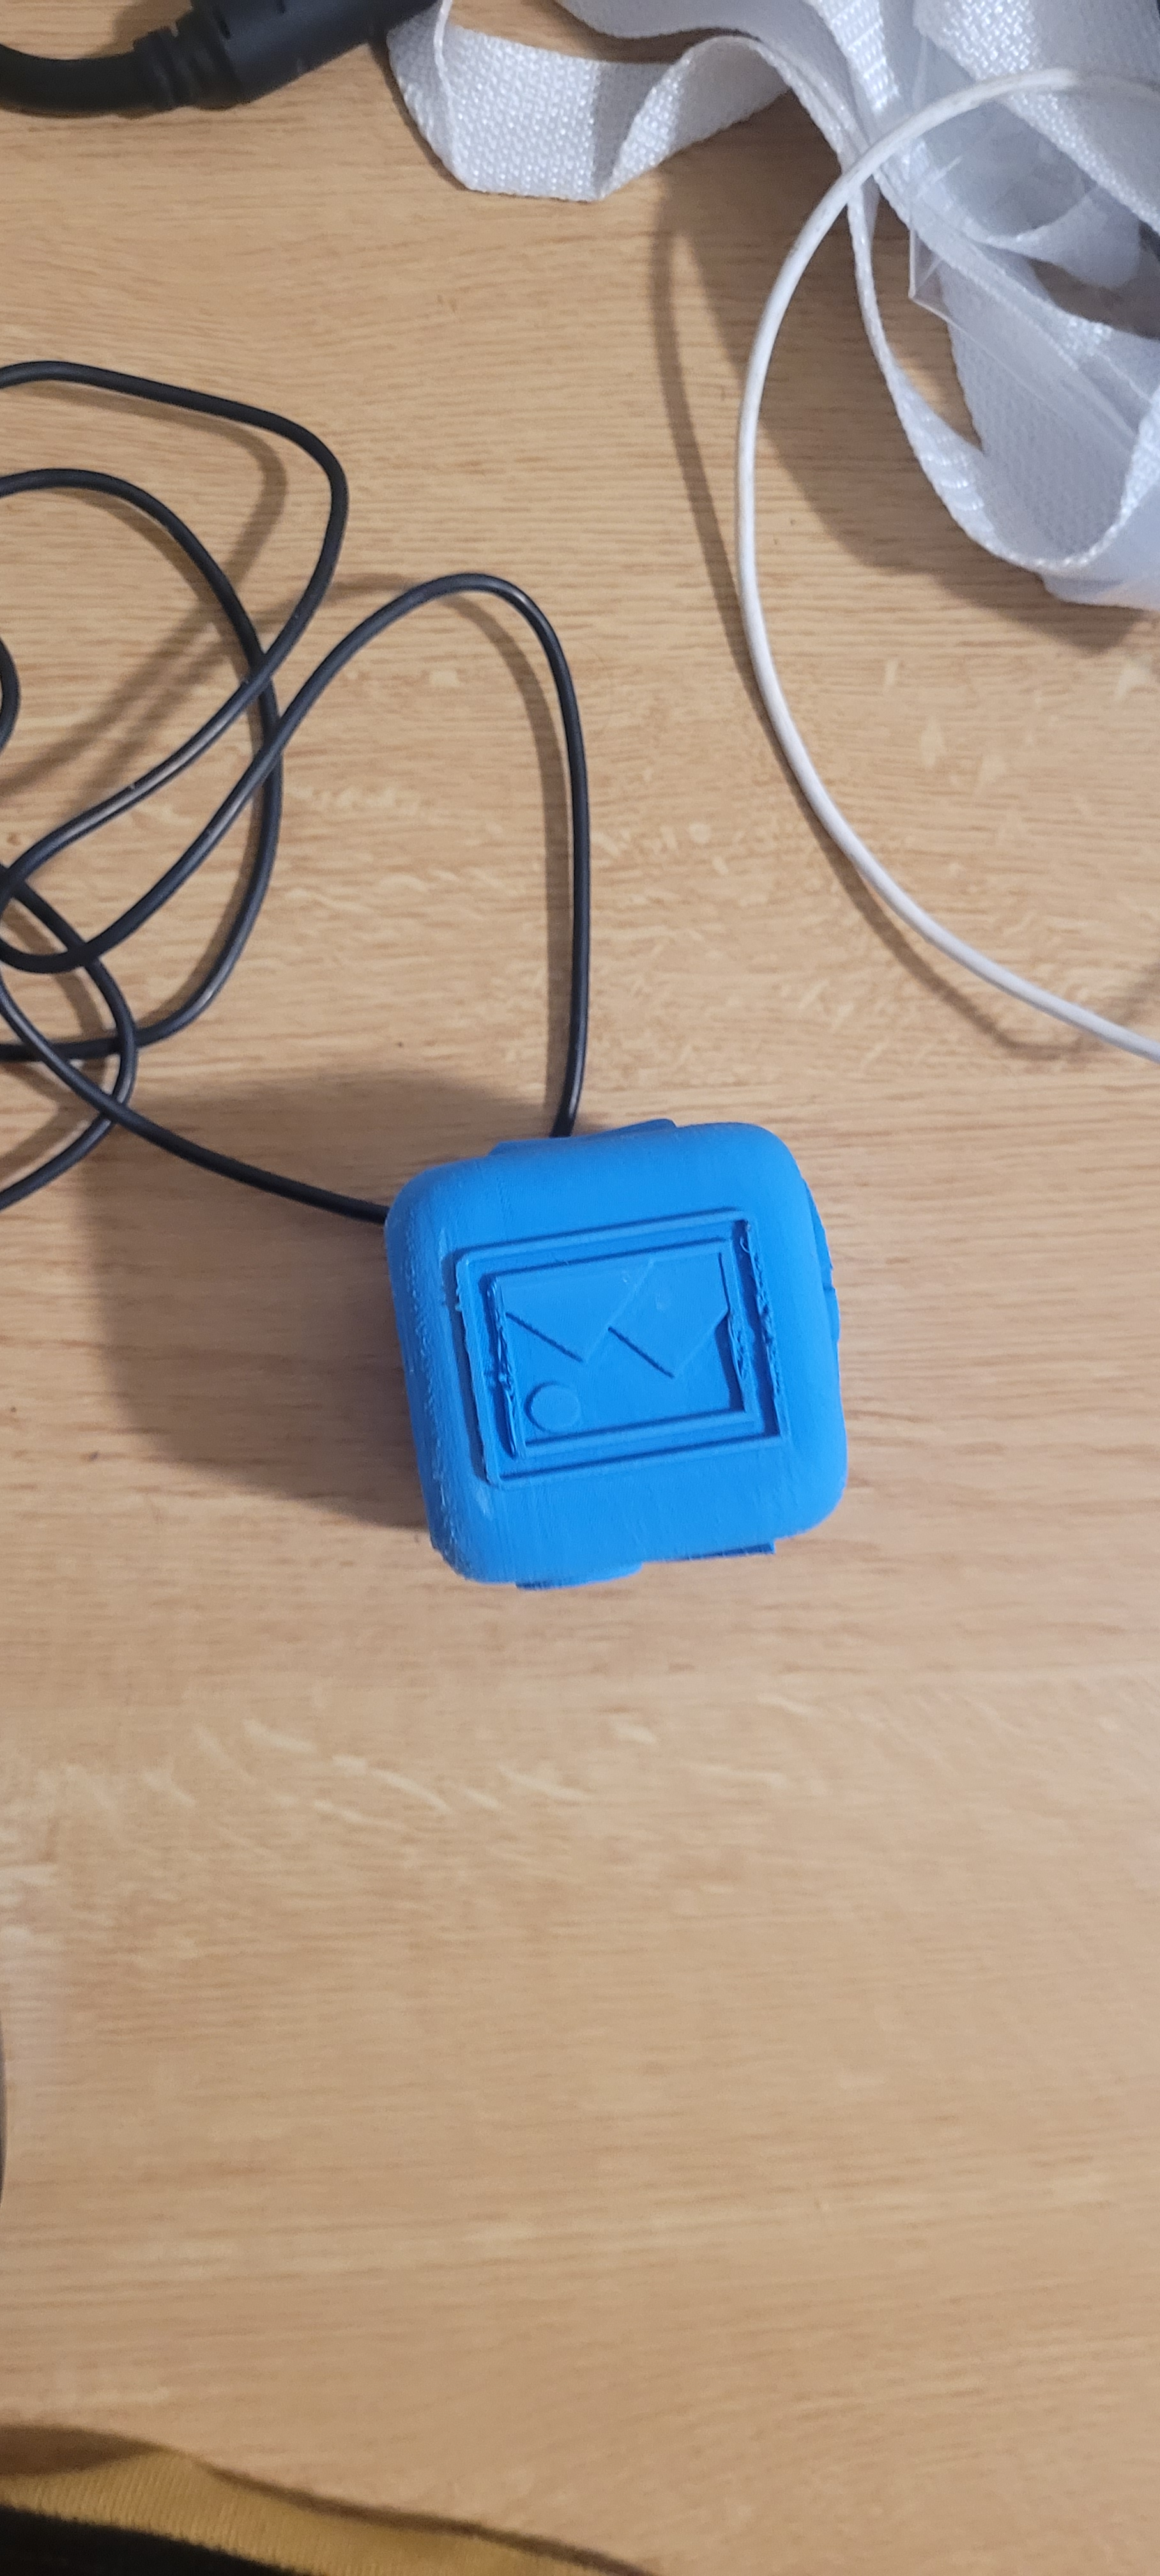Story: (426, 1189, 813, 1513)
